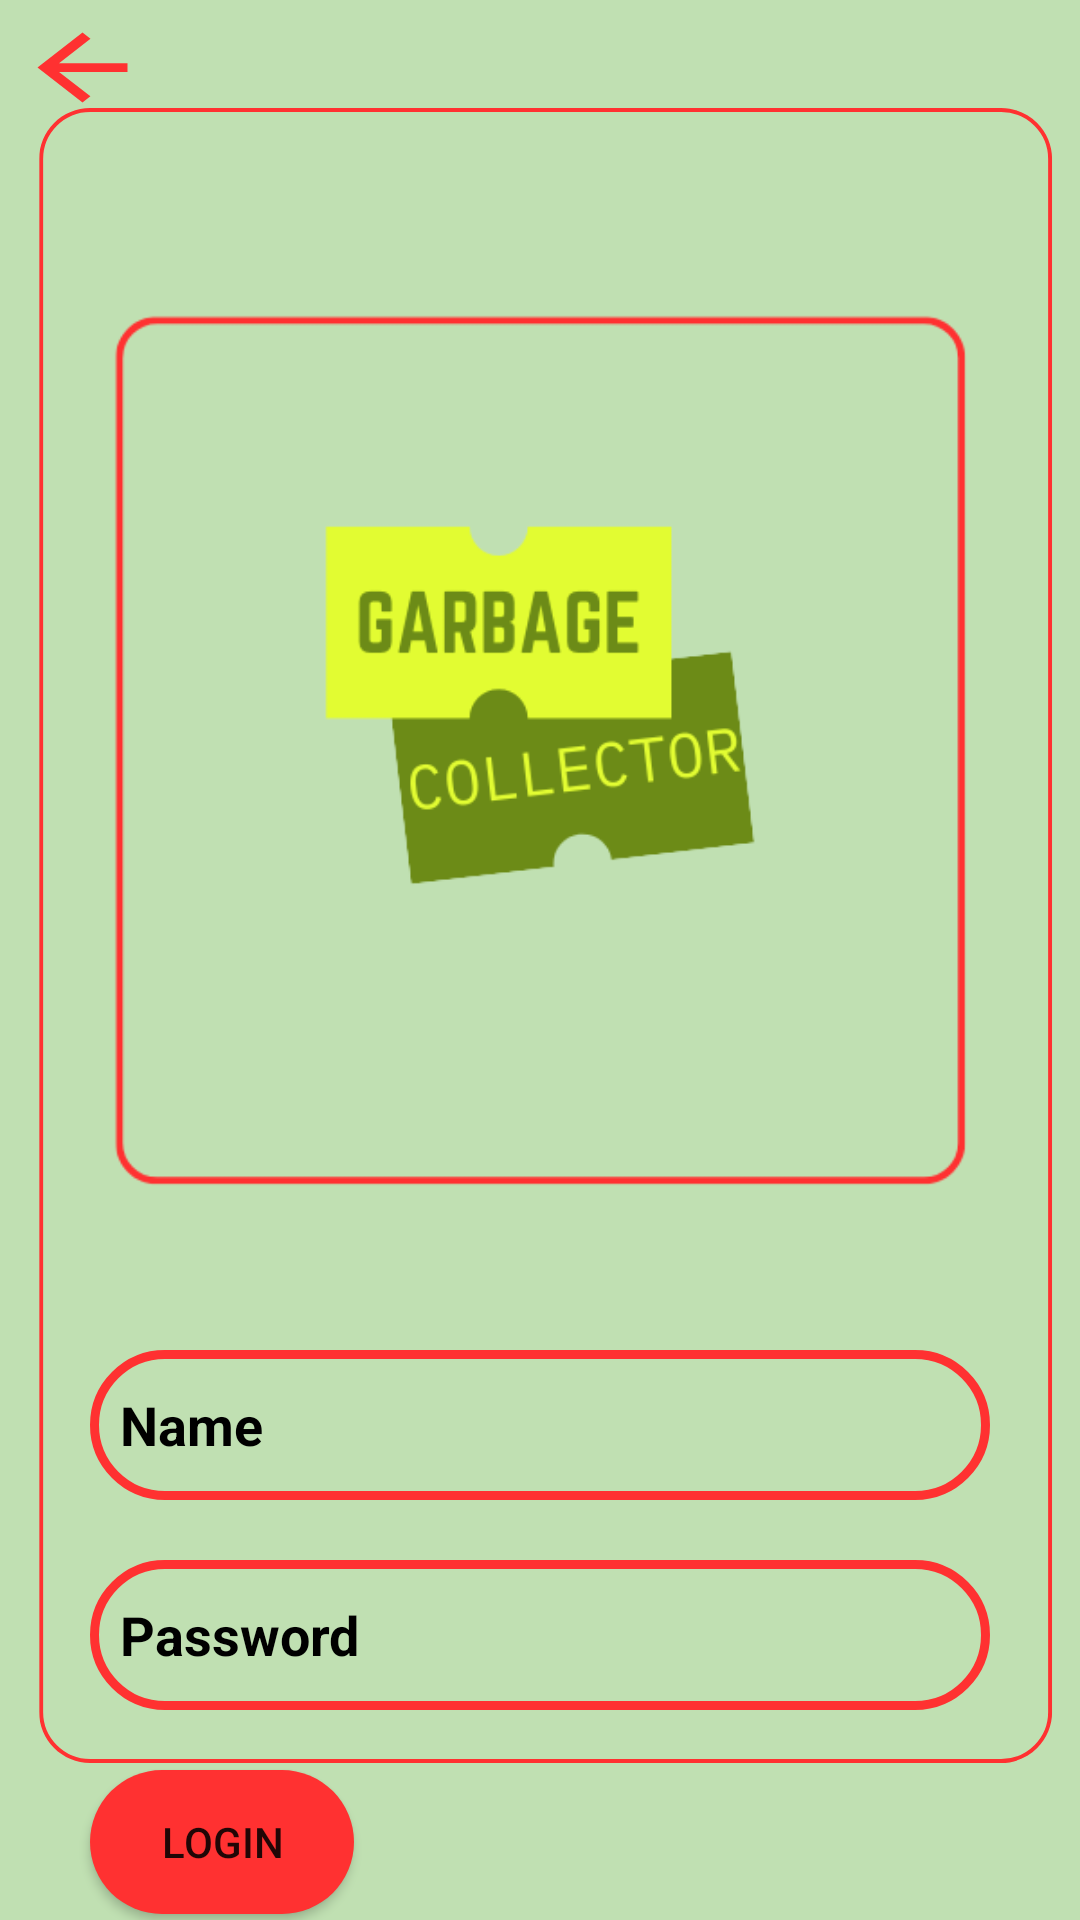

Icon bounding boxes for this 1080*1920 phone screenshot, format (x1,y1,x2,y2):
back: (37,32,128,103)
